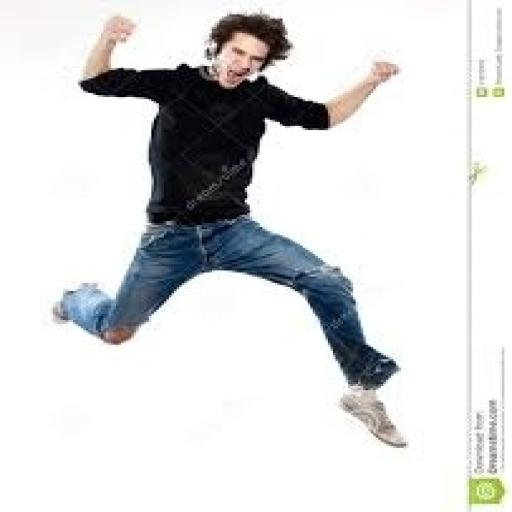listening_to_music: (48, 8, 414, 452)
